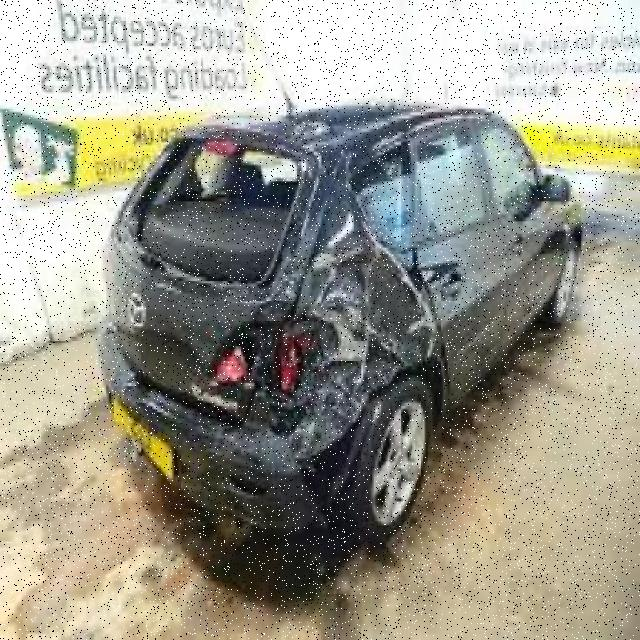damage: (120, 137, 444, 475)
